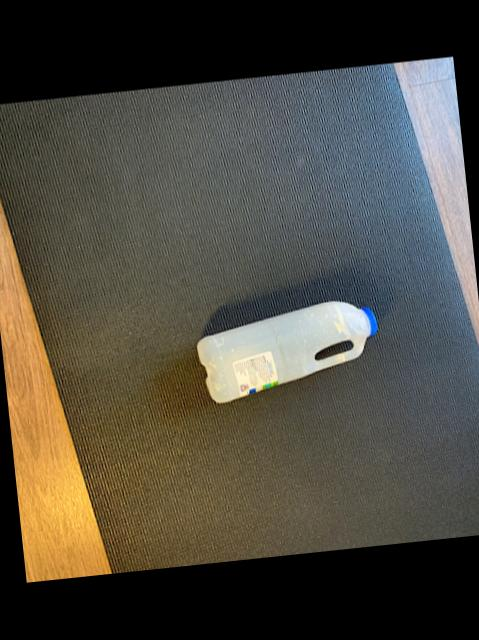plastic: (197, 301, 376, 401)
